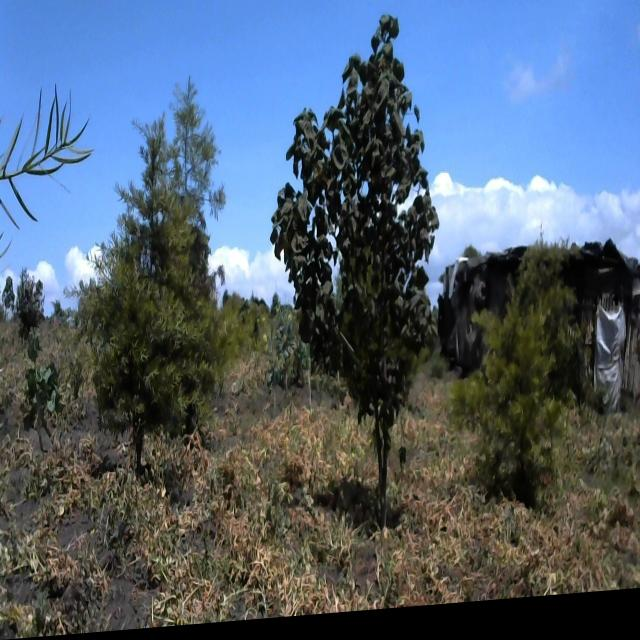Podocarpus falcatus: (155, 81, 235, 267)
cedrus: (276, 0, 426, 472), (91, 103, 238, 447), (472, 240, 579, 512)
